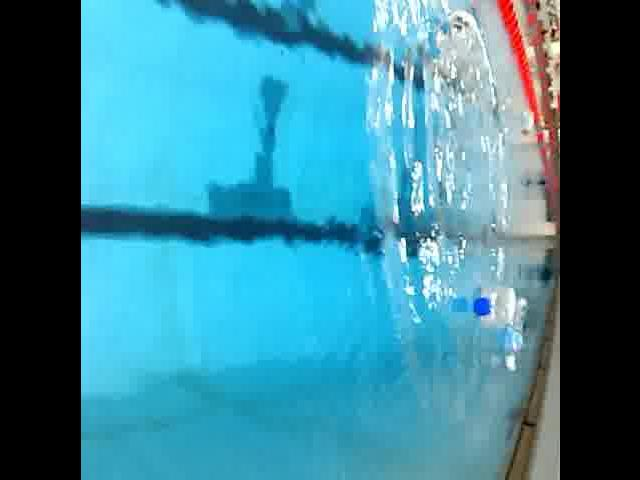Bottle: (494, 291, 532, 378), (470, 282, 518, 330)
